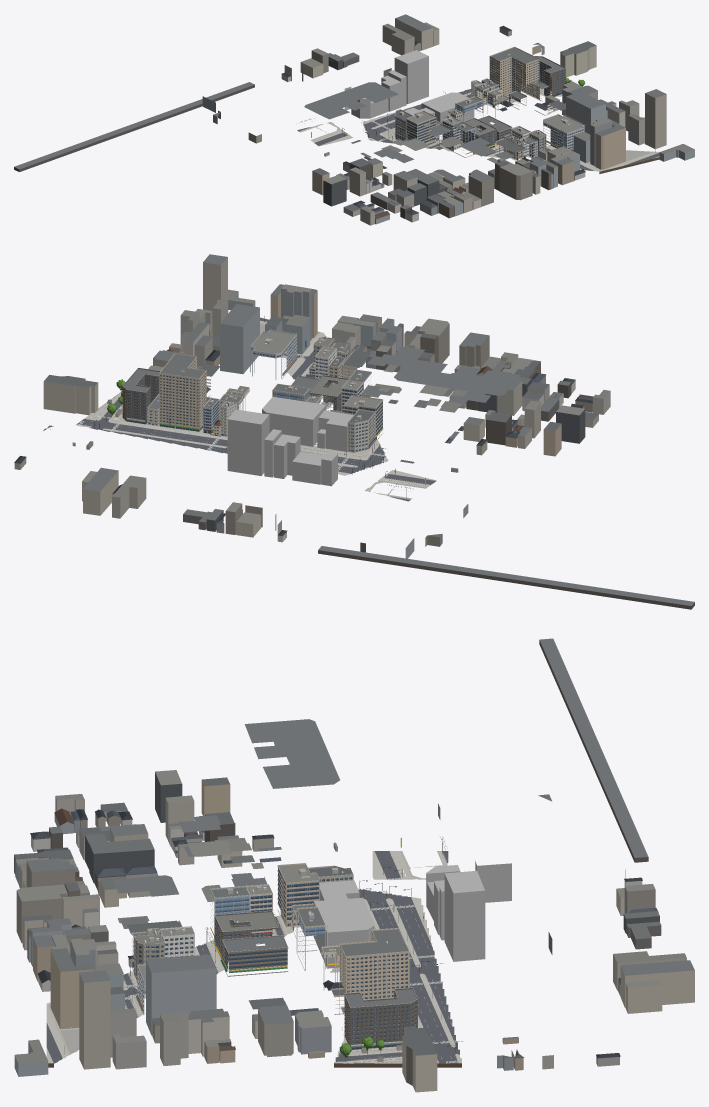
File: susukino-arrival-portrait.glb
The picture shows the model from 3 angles, top to bottom: view 1: azimuth 30°, elevation 25°; view 2: azimuth 150°, elevation 25°; view 3: azimuth 270°, elevation 25°; orthographic projection. The views are drawn at different scales.
Parts seen in each view (by area): view 1: buildings, buildingsDetail, road, walk, ground; view 2: buildings, buildingsDetail, road, walk, ground; view 3: buildings, buildingsDetail, road, walk, ground.
Boxes of the visible parts, x1,y1,x2,y2 form: buildings: (14, 14, 694, 225); buildingsDetail: (395, 46, 584, 160); road: (297, 89, 659, 170); walk: (299, 83, 659, 171); ground: (299, 79, 654, 170); buildings: (14, 254, 694, 609); buildingsDetail: (122, 329, 383, 452); road: (77, 317, 435, 501); walk: (76, 320, 436, 499); ground: (87, 323, 426, 499); buildings: (14, 638, 694, 1092); buildingsDetail: (131, 863, 417, 1049); road: (46, 851, 459, 1063); walk: (46, 851, 461, 1063); ground: (48, 851, 447, 1063).
Size of the model in its own units: 730 by 82.02 by 468.
